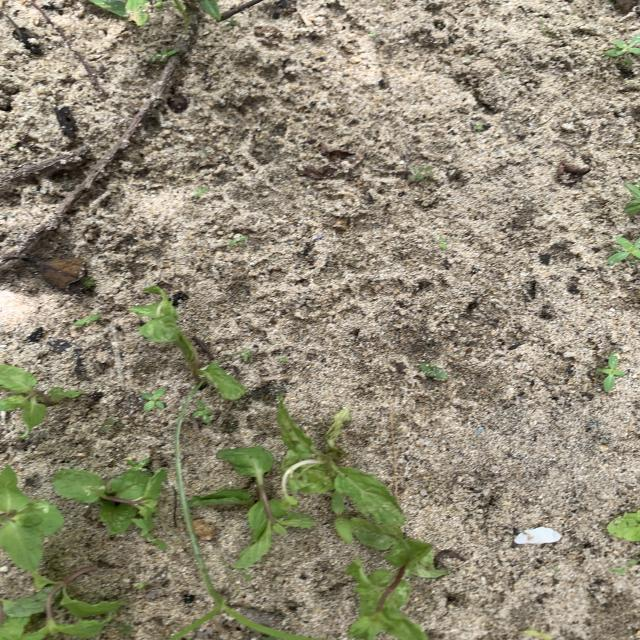crop: (277, 399, 405, 528), (130, 286, 246, 400), (217, 446, 315, 569), (346, 528, 441, 640), (53, 466, 166, 549), (0, 567, 124, 640), (0, 466, 63, 589), (0, 364, 84, 438), (606, 510, 640, 543), (193, 490, 248, 505), (629, 559, 640, 565)
weed: (174, 411, 224, 614), (171, 606, 319, 640), (596, 352, 630, 393), (331, 490, 353, 543), (607, 235, 640, 264), (138, 387, 166, 413), (70, 313, 101, 331), (193, 400, 212, 425)
